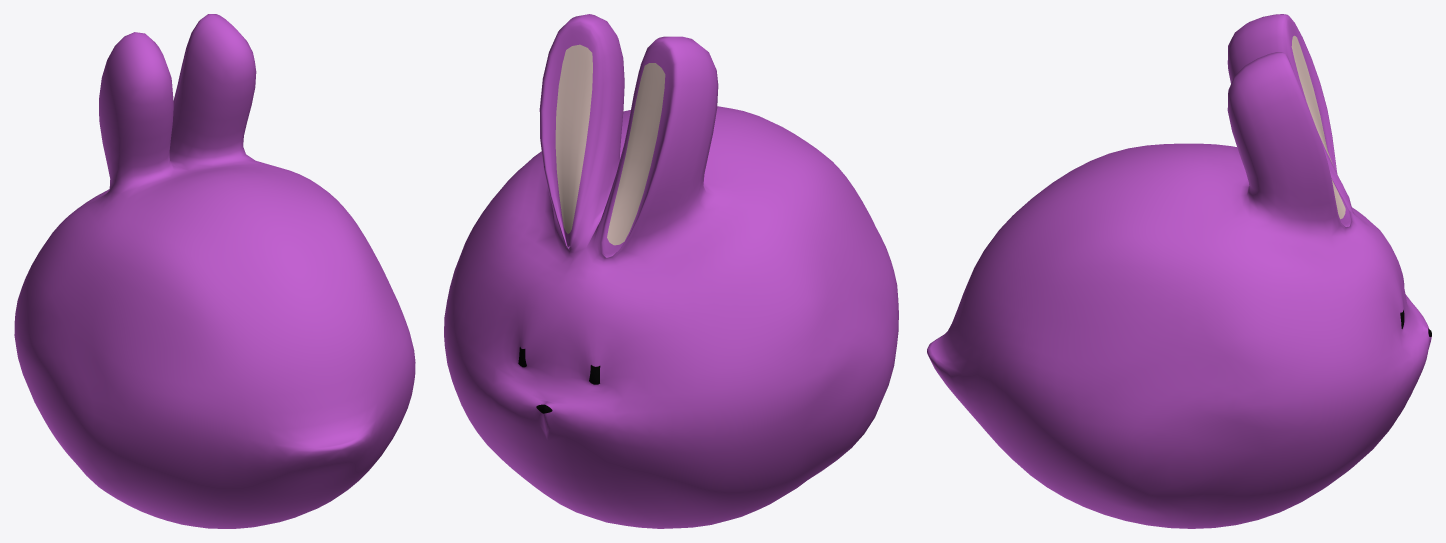
File: prey_33.glb
3 renders of one model, left to right at view 1: azimuth 30°, elevation 25°; view 2: azimuth 150°, elevation 25°; view 3: azimuth 270°, elevation 25°, orthographic. The views are drawn at different scales.
Visible parts, largest first — view 1: Cube; view 2: Cube; view 3: Cube.
Boxes of the visible parts, bbox=[...] form: Cube: bbox=[14, 14, 415, 528]; Cube: bbox=[444, 14, 898, 528]; Cube: bbox=[927, 14, 1431, 528].
Bounding box in the file's own units: 4.03 × 5.34 × 5.15.
